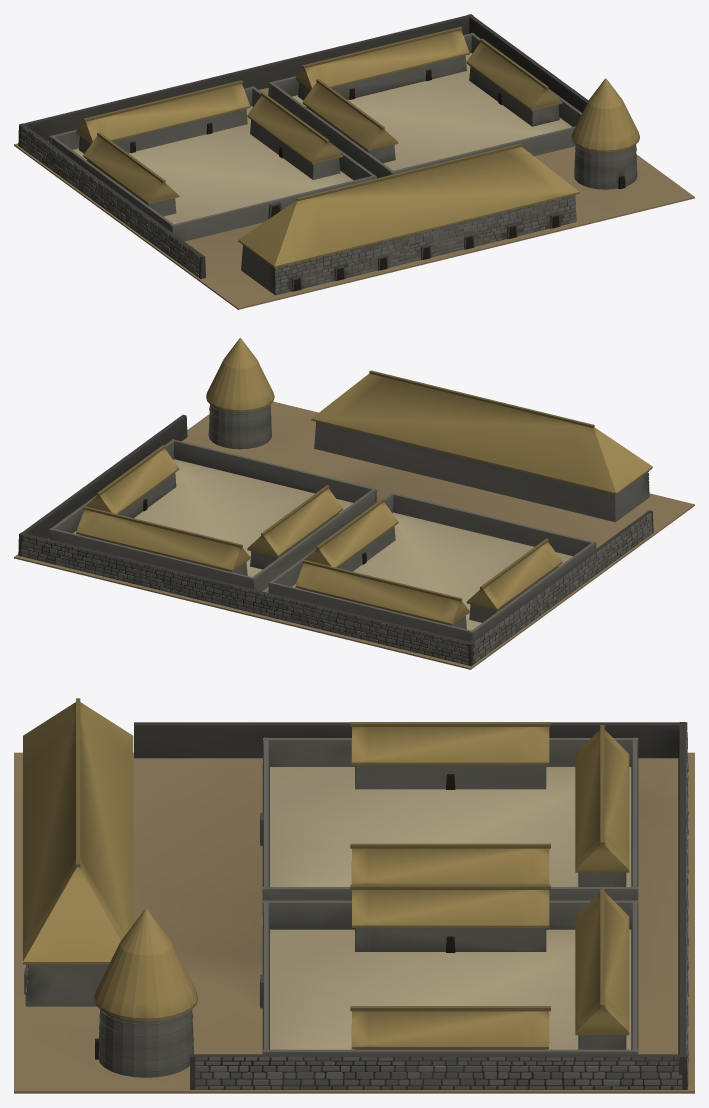
File: kiswarkancha.glb
3 renders of one model, top to bottom at view 1: azimuth 30°, elevation 25°; view 2: azimuth 150°, elevation 25°; view 3: azimuth 270°, elevation 25°, orthographic. The views are drawn at different scales.
Visible parts, largest first — view 1: p1_walls, p2_roofs, p0_ground; view 2: p1_walls, p2_roofs, p0_ground; view 3: p1_walls, p2_roofs, p0_ground.
Boxes of the visible parts, left/top/right/bottom form: p1_walls: left=18, top=14, right=637, bottom=295; p2_roofs: left=76, top=27, right=639, bottom=267; p0_ground: left=14, top=87, right=694, bottom=309; p1_walls: left=18, top=404, right=653, bottom=666; p2_roofs: left=76, top=338, right=652, bottom=625; p0_ground: left=14, top=401, right=694, bottom=669; p1_walls: left=24, top=722, right=688, bottom=1089; p2_roofs: left=23, top=698, right=629, bottom=1049; p0_ground: left=14, top=752, right=694, bottom=1093.
Bounding box in the file's own units: 100 × 20.7 × 85.
